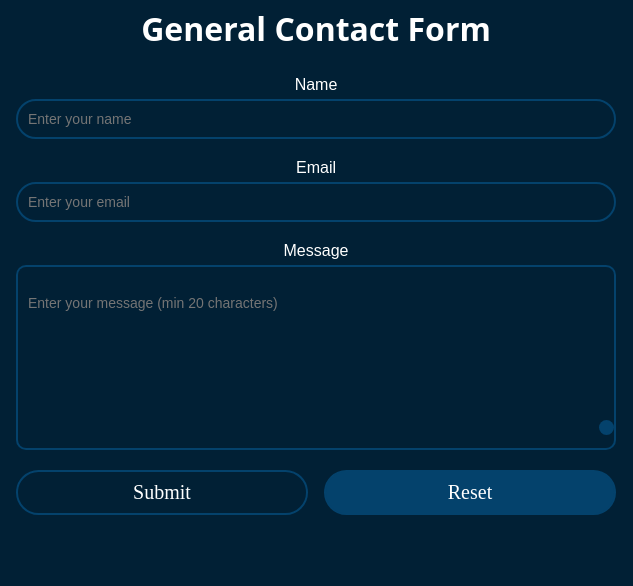
Test: GeneralForm › shows validation errors on submit when fields are empty
Click the button "Submit": (162, 493) [16,470,308,515]
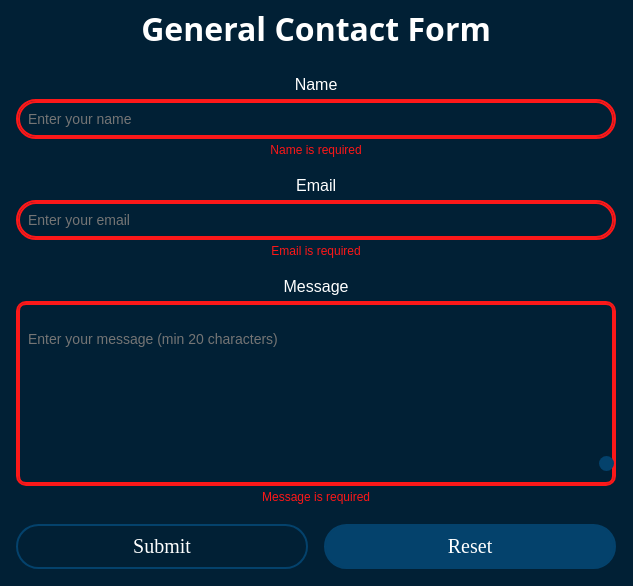
Check: the text "Name is required" is shown, box [270,143,362,157]
Check: the text "Email is required" is shown, box [271,244,361,258]
Check: the text "Message is required" is shown, box [262,490,370,504]
